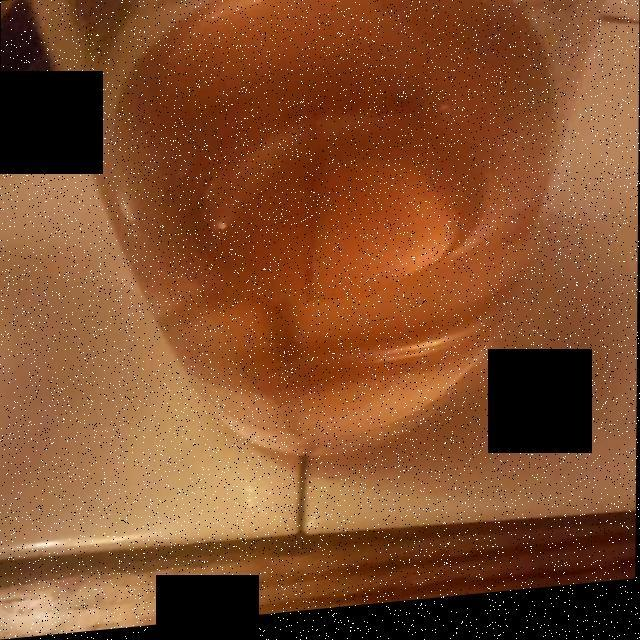wine: (107, 0, 555, 456)
